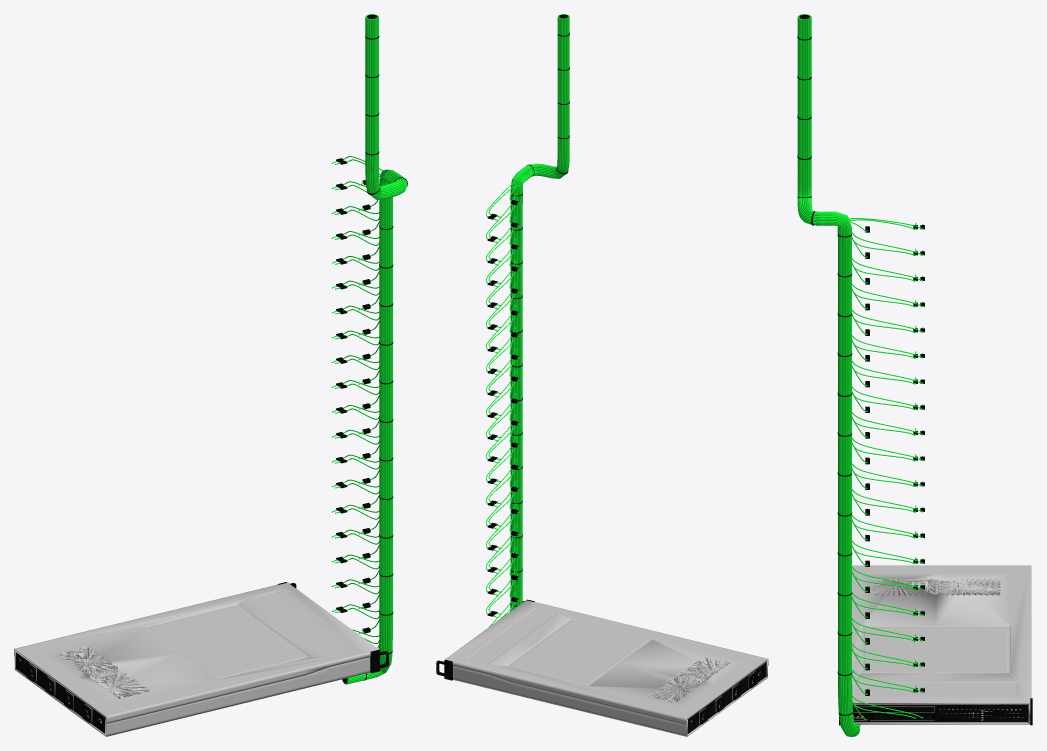
File: computer_shit.obj
3 renders of one model, left to right at view 1: azimuth 30°, elevation 25°; view 2: azimuth 150°, elevation 25°; view 3: azimuth 270°, elevation 25°, orthographic. The views are drawn at different scales.
Parts seen in each view (by area): view 1: Server, Cable_Bundle_Server; view 2: Server, Cable_Bundle_Server; view 3: Server, Cable_Bundle_Server.
Boxes of the visible parts, left/top/right/bottom form: Server: left=14, top=582, right=388, bottom=736; Cable_Bundle_Server: left=342, top=14, right=407, bottom=684; Server: left=436, top=599, right=768, bottom=736; Cable_Bundle_Server: left=510, top=14, right=569, bottom=611; Server: left=839, top=565, right=1032, bottom=725; Cable_Bundle_Server: left=797, top=14, right=860, bottom=736.
Size of the model in its own units: 2.93 by 6.6 by 1.99.
